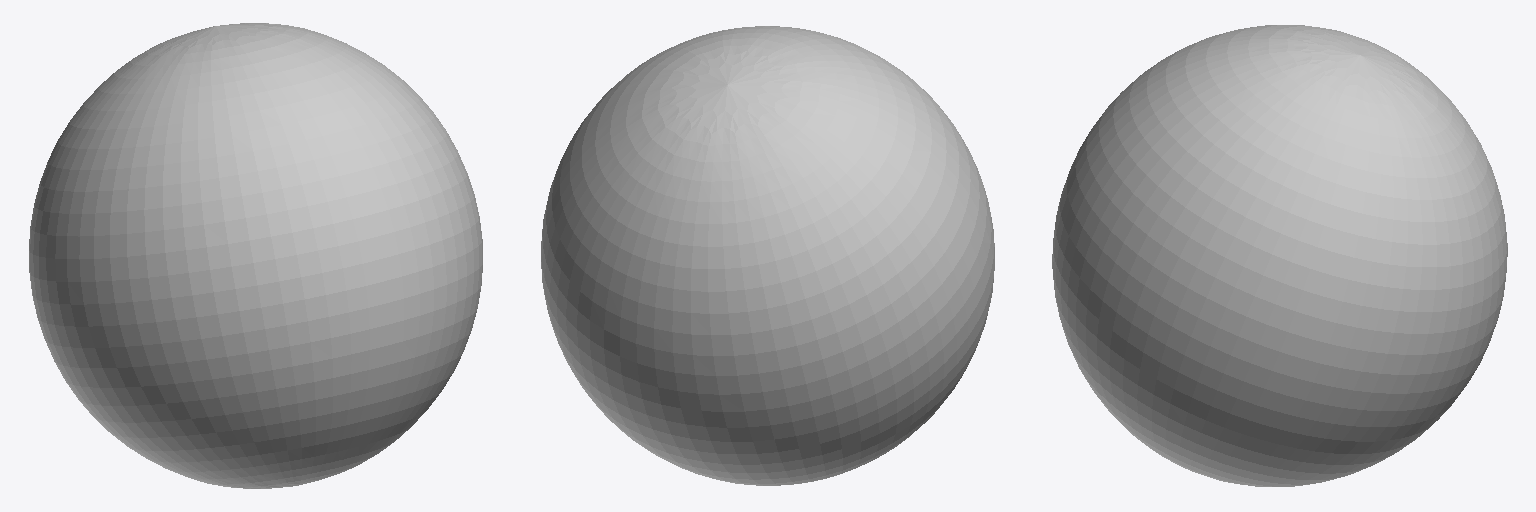
Rendered from ball14.obj.
3 views of the same model, side by side, from view 1: azimuth 30°, elevation 25°; view 2: azimuth 150°, elevation 25°; view 3: azimuth 270°, elevation 25° (orthographic).
Parts seen in each view (by area): view 1: Sphere01.002; view 2: Sphere01.002; view 3: Sphere01.002.
Part boxes in pixels (left/top/right/bottom): Sphere01.002: left=29, top=23, right=482, bottom=488; Sphere01.002: left=541, top=26, right=994, bottom=485; Sphere01.002: left=1052, top=25, right=1507, bottom=486.
Size of the model in its own units: 5.45 by 5.58 by 5.46.